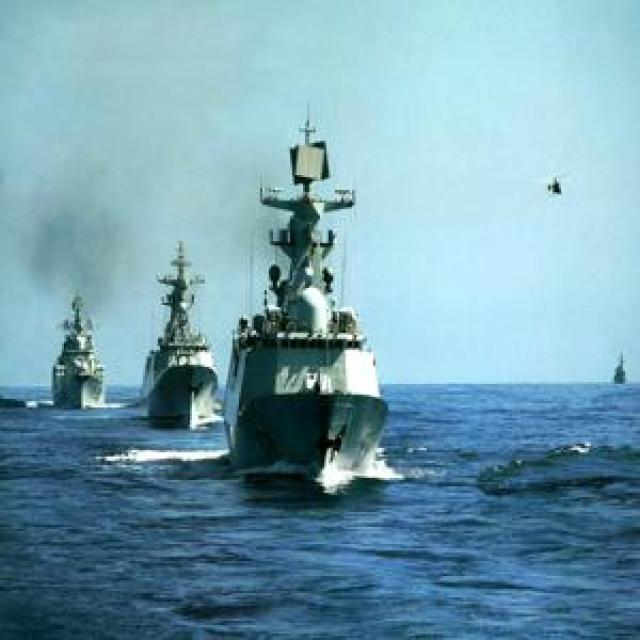navalvessels: (218, 101, 389, 483), (132, 242, 218, 424), (49, 292, 110, 406), (611, 342, 634, 386)
